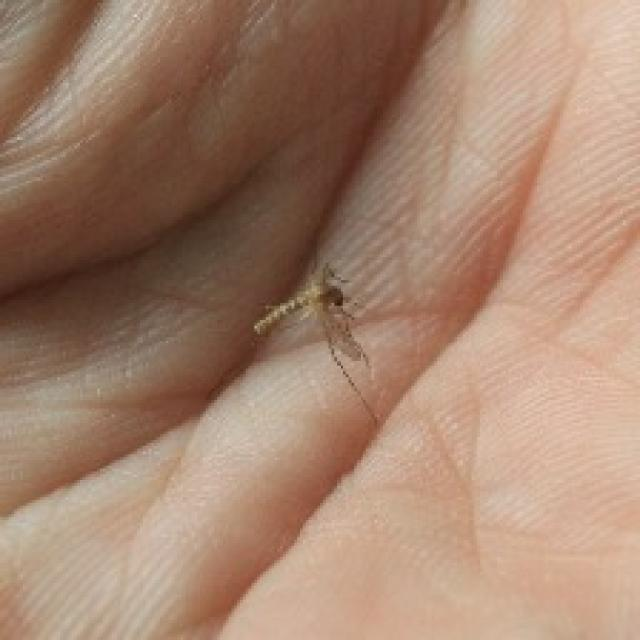culex: (249, 257, 380, 429)
